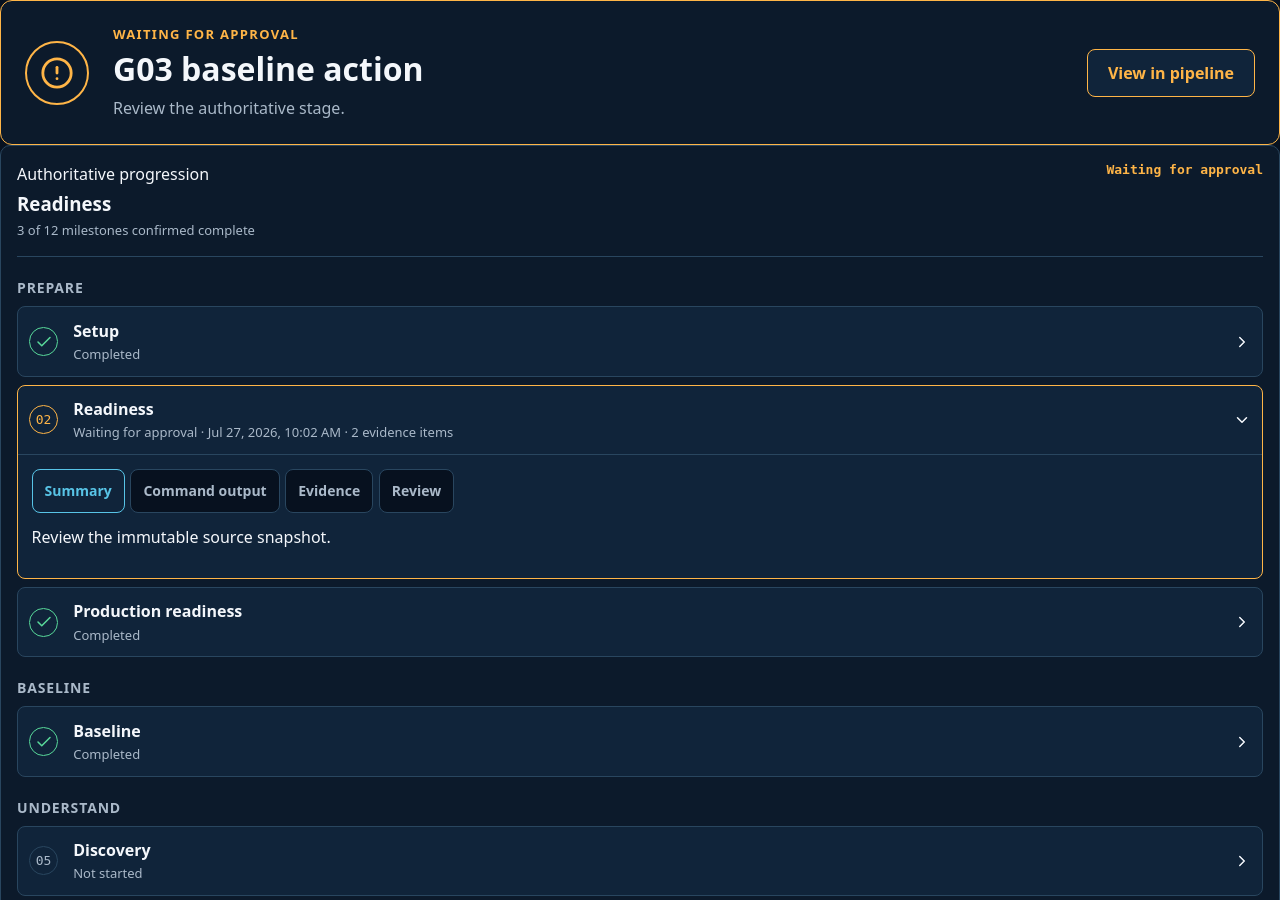
Scenario: control tower presentation state › maps G03 baseline action navigation to the available pipeline row
Click the button "View in pipeline".
click(1171, 73)  # box [1087,48,1255,97]
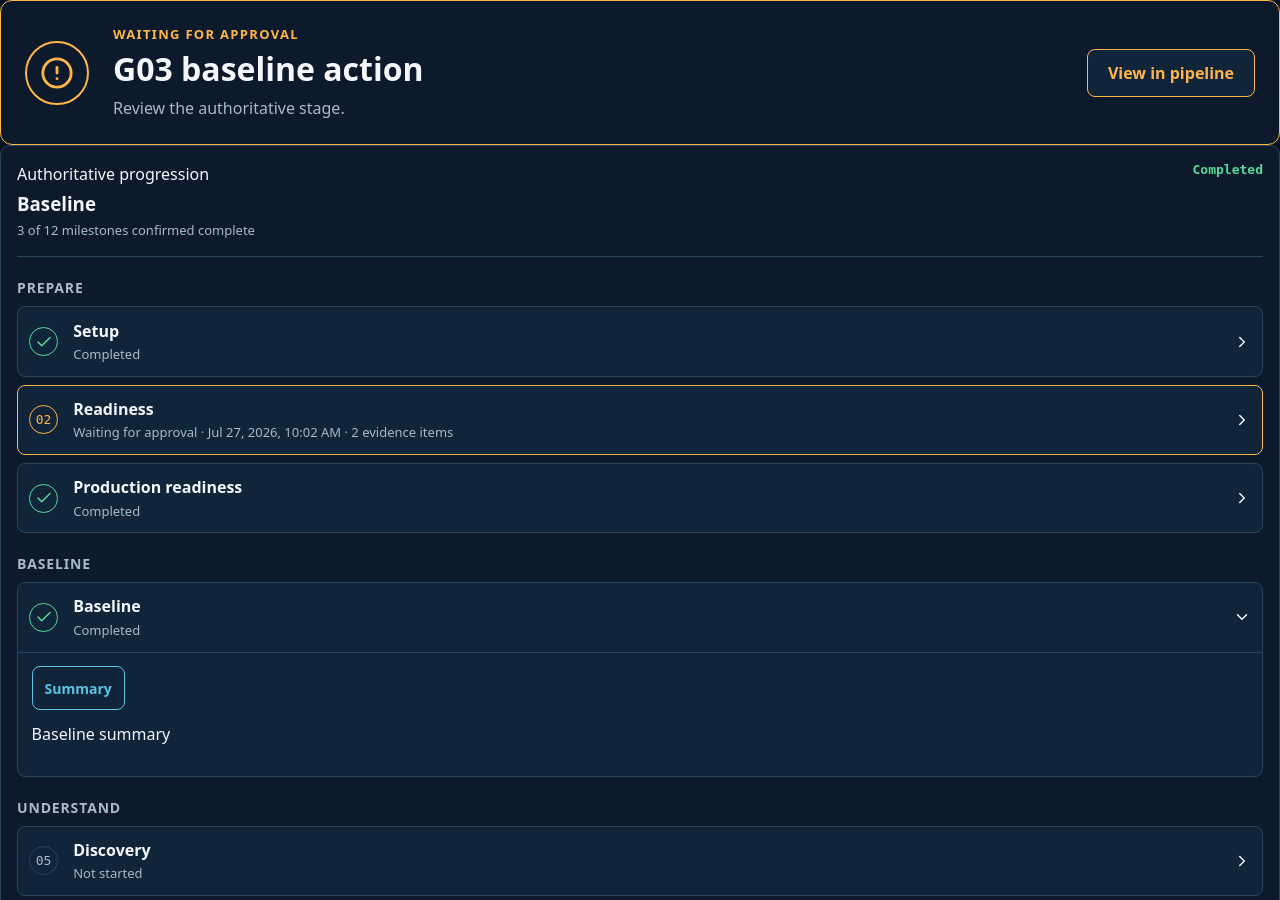
Now the button "Baseline Completed" is expanded, box [18,583,1262,652]
